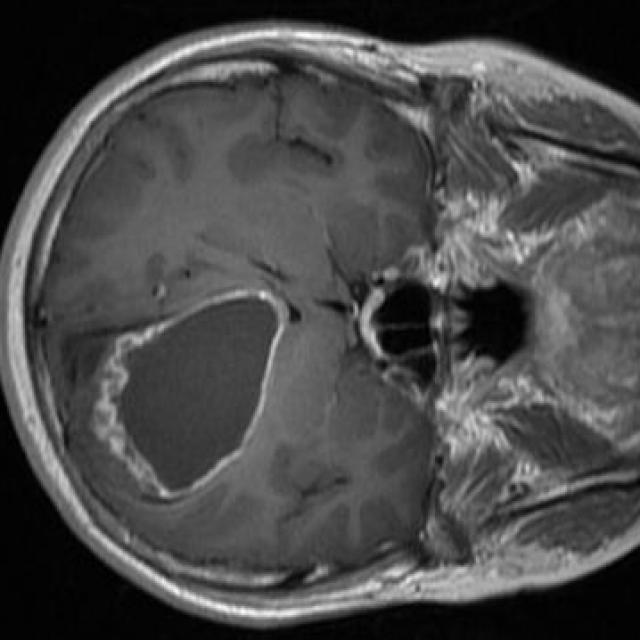glioma: (96, 289, 289, 499)
